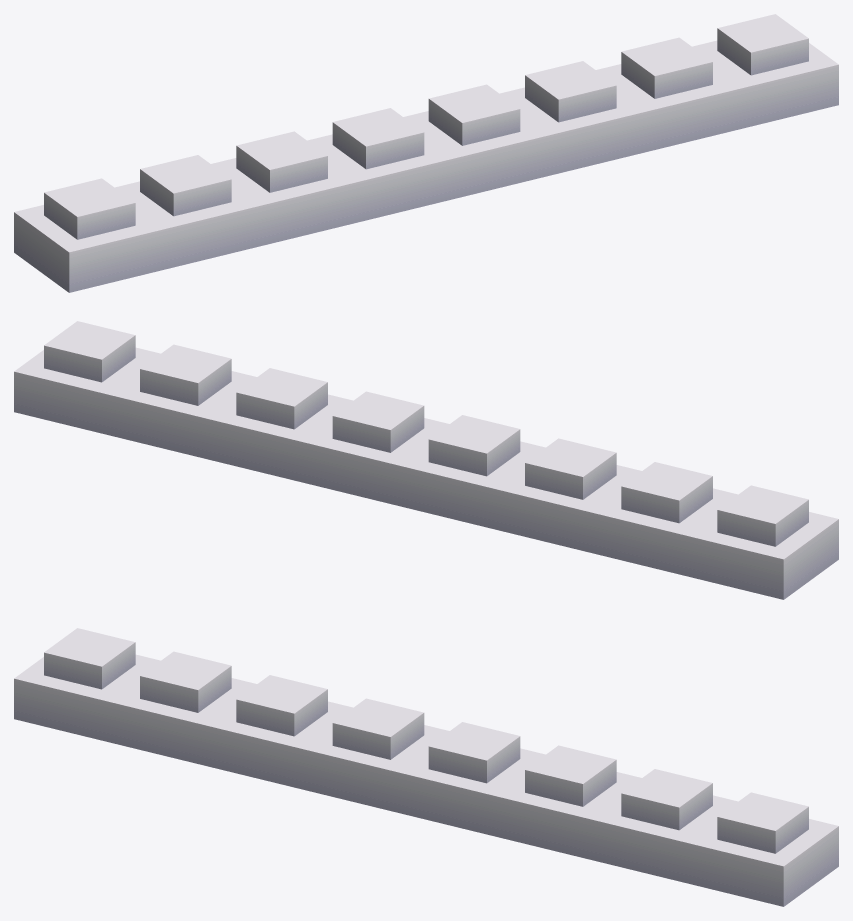
File: square-lq-plate-1x8.glb
The picture shows the model from 3 angles, top to bottom: view 1: azimuth 30°, elevation 25°; view 2: azimuth 150°, elevation 25°; view 3: azimuth 330°, elevation 25°; orthographic projection.
Visible parts, largest first — view 1: square-lq-plate-1x8; view 2: square-lq-plate-1x8; view 3: square-lq-plate-1x8.
Boxes of the visible parts, <box> form: square-lq-plate-1x8: <box>14,14,838,292</box>; square-lq-plate-1x8: <box>14,321,838,599</box>; square-lq-plate-1x8: <box>14,628,838,906</box>.
Bounding box in the file's own units: 0.636 × 0.05 × 0.079.
Materials: 1 (1 with a texture image).
